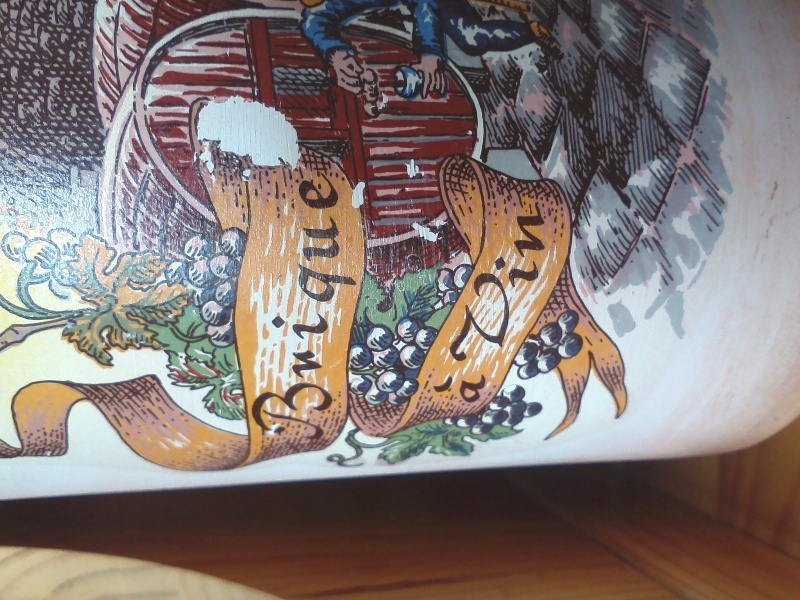text: (305, 172, 320, 444), (321, 172, 336, 444), (337, 172, 352, 444), (353, 172, 364, 444), (513, 202, 528, 369), (529, 202, 544, 369), (545, 202, 558, 369), (502, 202, 512, 369), (301, 172, 304, 444), (449, 374, 464, 408), (465, 374, 480, 408), (481, 374, 490, 408), (440, 374, 448, 408)
